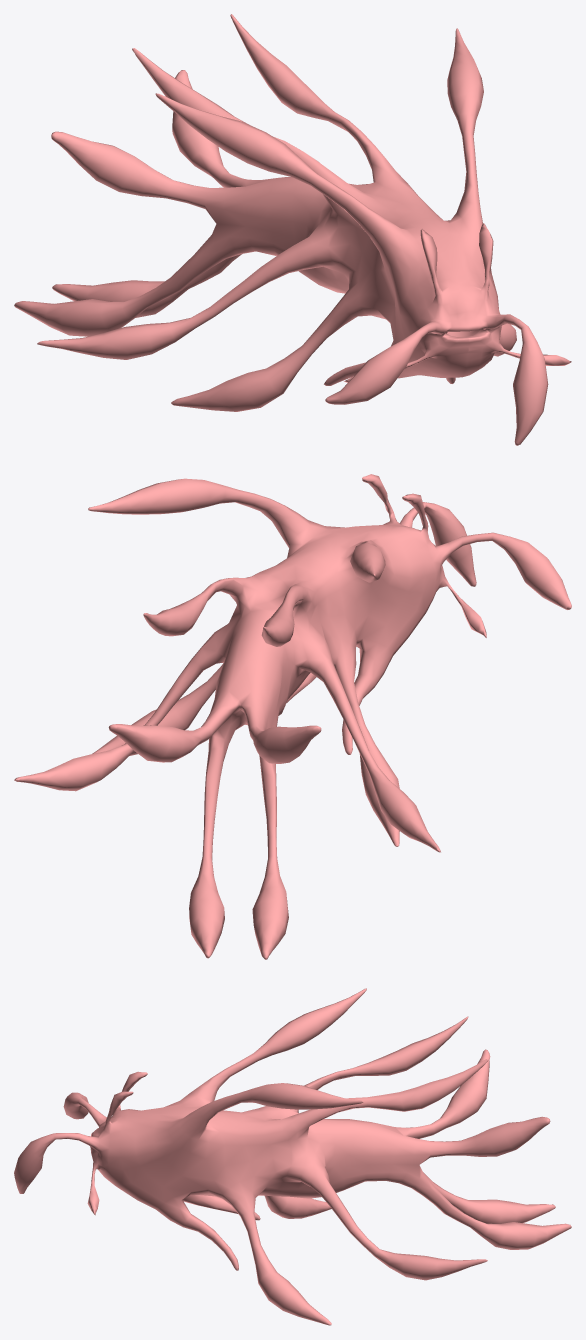
Rendered from creature02.fbx.
3 views of the same model, one above another, from view 1: azimuth 30°, elevation 25°; view 2: azimuth 150°, elevation 25°; view 3: azimuth 270°, elevation 25° (orthographic). The views are drawn at different scales.
Visible parts, largest first — view 1: anglerMonster; view 2: anglerMonster; view 3: anglerMonster.
Boxes of the visible parts, left/top/right/bottom form: anglerMonster: left=14, top=14, right=571, bottom=445; anglerMonster: left=14, top=474, right=571, bottom=959; anglerMonster: left=14, top=988, right=571, bottom=1325.
Bounding box in the file's own units: 51.77 × 37.17 × 79.81.
